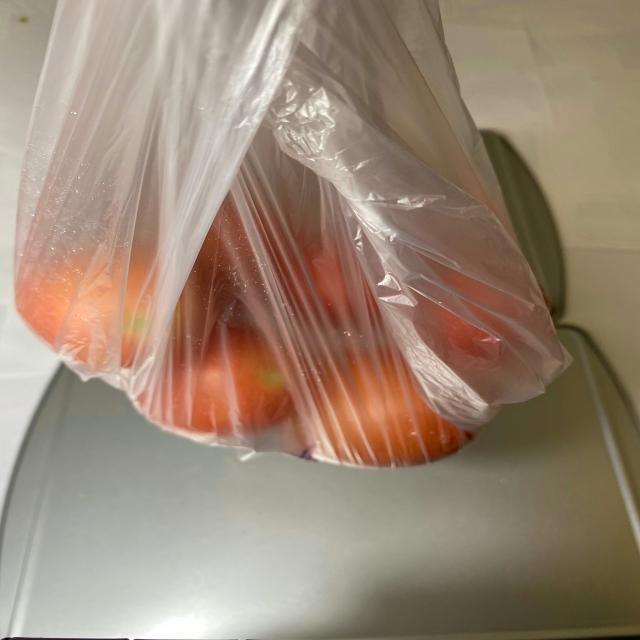tomato: (23, 199, 560, 470)
